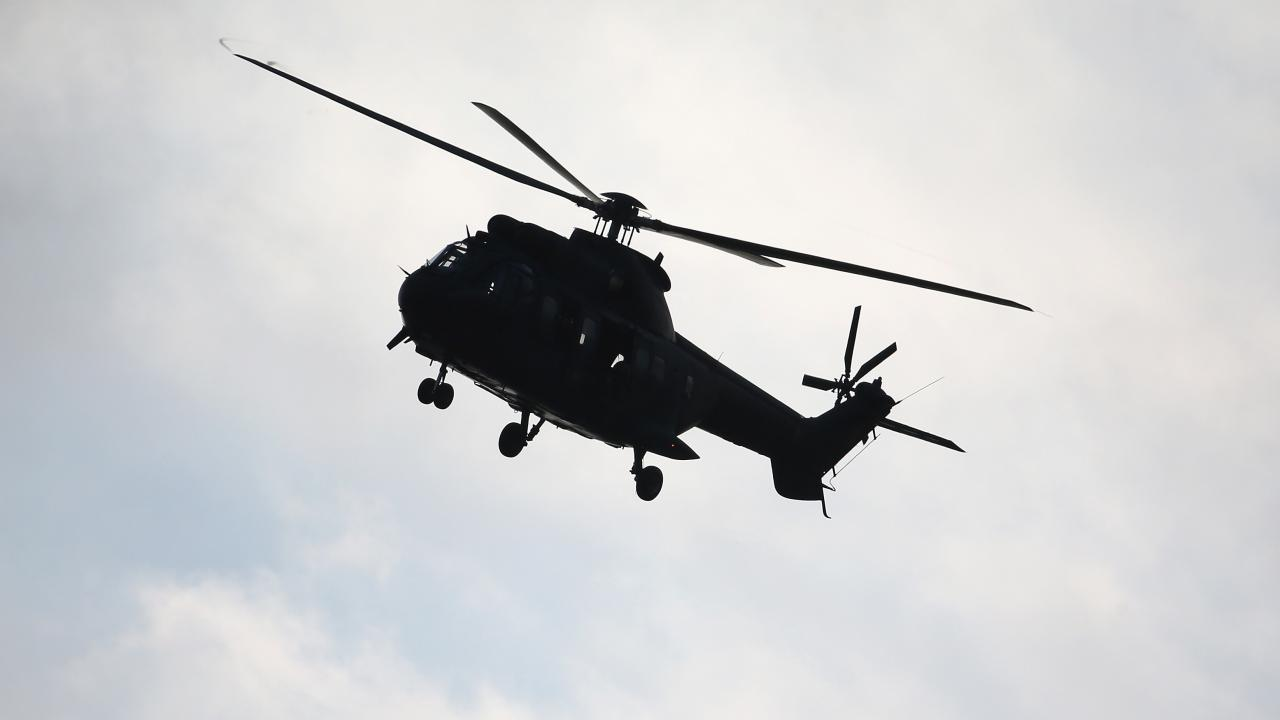Helicopter: (217, 36, 1050, 538)
